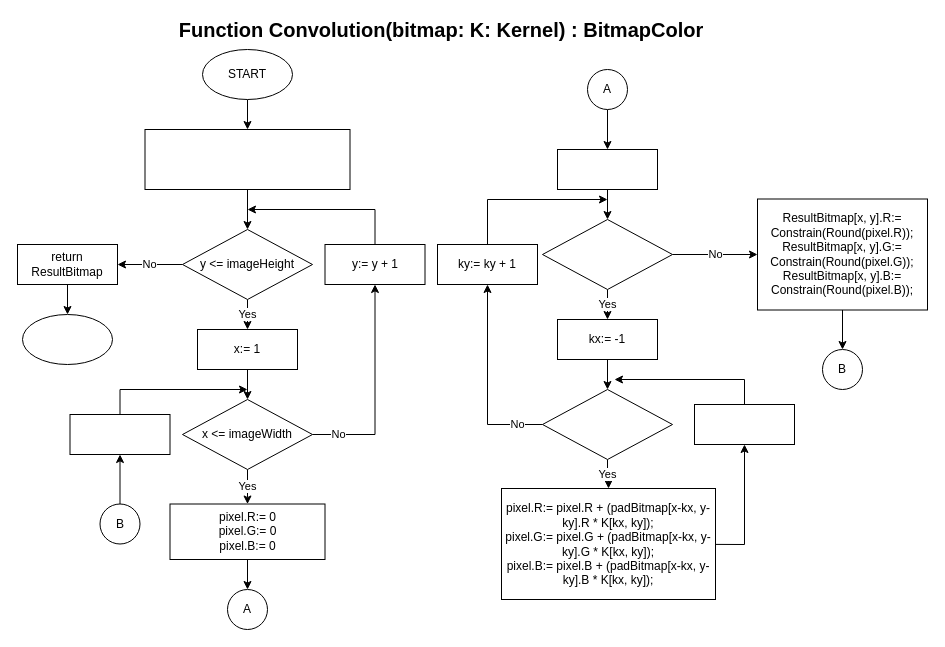
The diagram is 945 pixels wide and 647 high, and some of its shapes have lost their labels. The box of each missing label's shape, as (x1, y1, x2, y2) in pixels:
END: (22, 314, 112, 364)
kx <= imageWidth: (542, 388, 672, 460)
kx:= kx + 1: (694, 404, 794, 444)
ky <= 1: (542, 218, 672, 290)
ky:= -1: (556, 148, 658, 190)
x:= x + 1: (69, 414, 170, 454)
y:= 1 padBitmap:= PaddingBitmap(bitmap): (144, 128, 350, 190)
